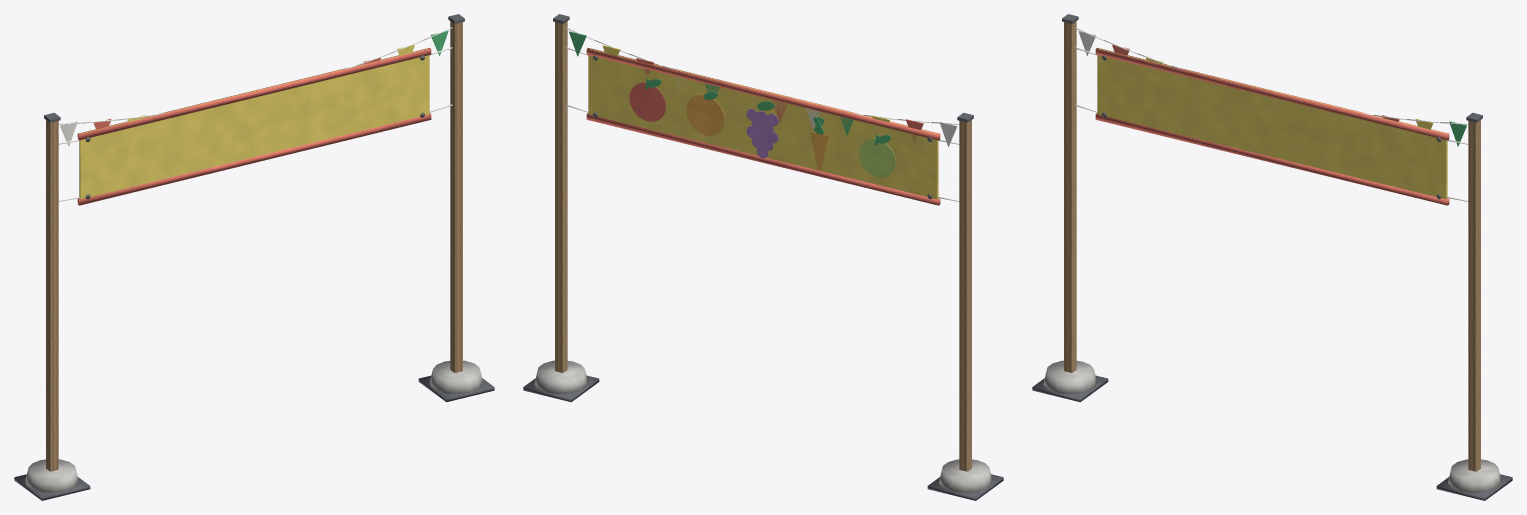
Rendered from Feira_Banner.fbx.
3 views of the same model, side by side, from view 1: azimuth 30°, elevation 25°; view 2: azimuth 150°, elevation 25°; view 3: azimuth 330°, elevation 25° (orthographic).
Parts seen in each view (by area): view 1: Feira_Banner; view 2: Feira_Banner; view 3: Feira_Banner.
Part boxes in pixels (x1,y1,x2,y2): Feira_Banner: (14,14,494,500); Feira_Banner: (523,14,1003,500); Feira_Banner: (1032,14,1512,500).
Size of the model in its own units: 4.14 by 3.22 by 0.44.
Materials: 1 (1 with a texture image).
